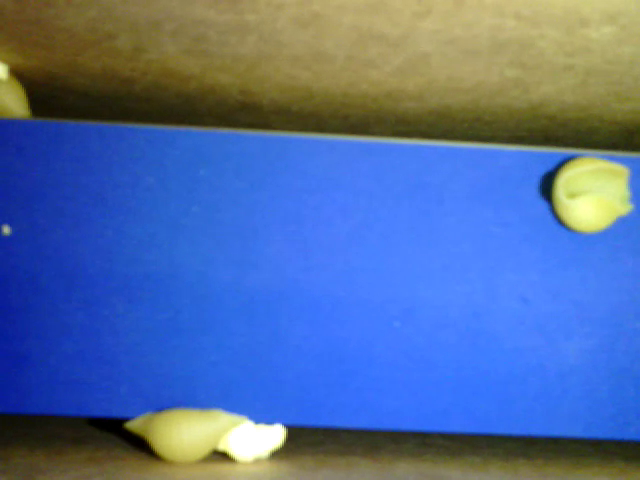shell: (123, 407, 245, 463), (551, 155, 634, 235)
